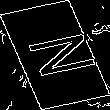N_E: (12, 28, 98, 82)
